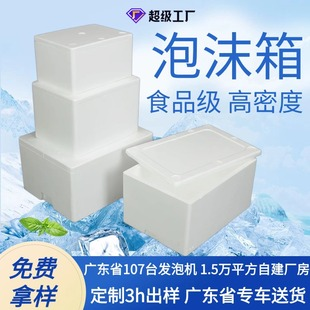Boxes: (19, 25, 260, 254)
